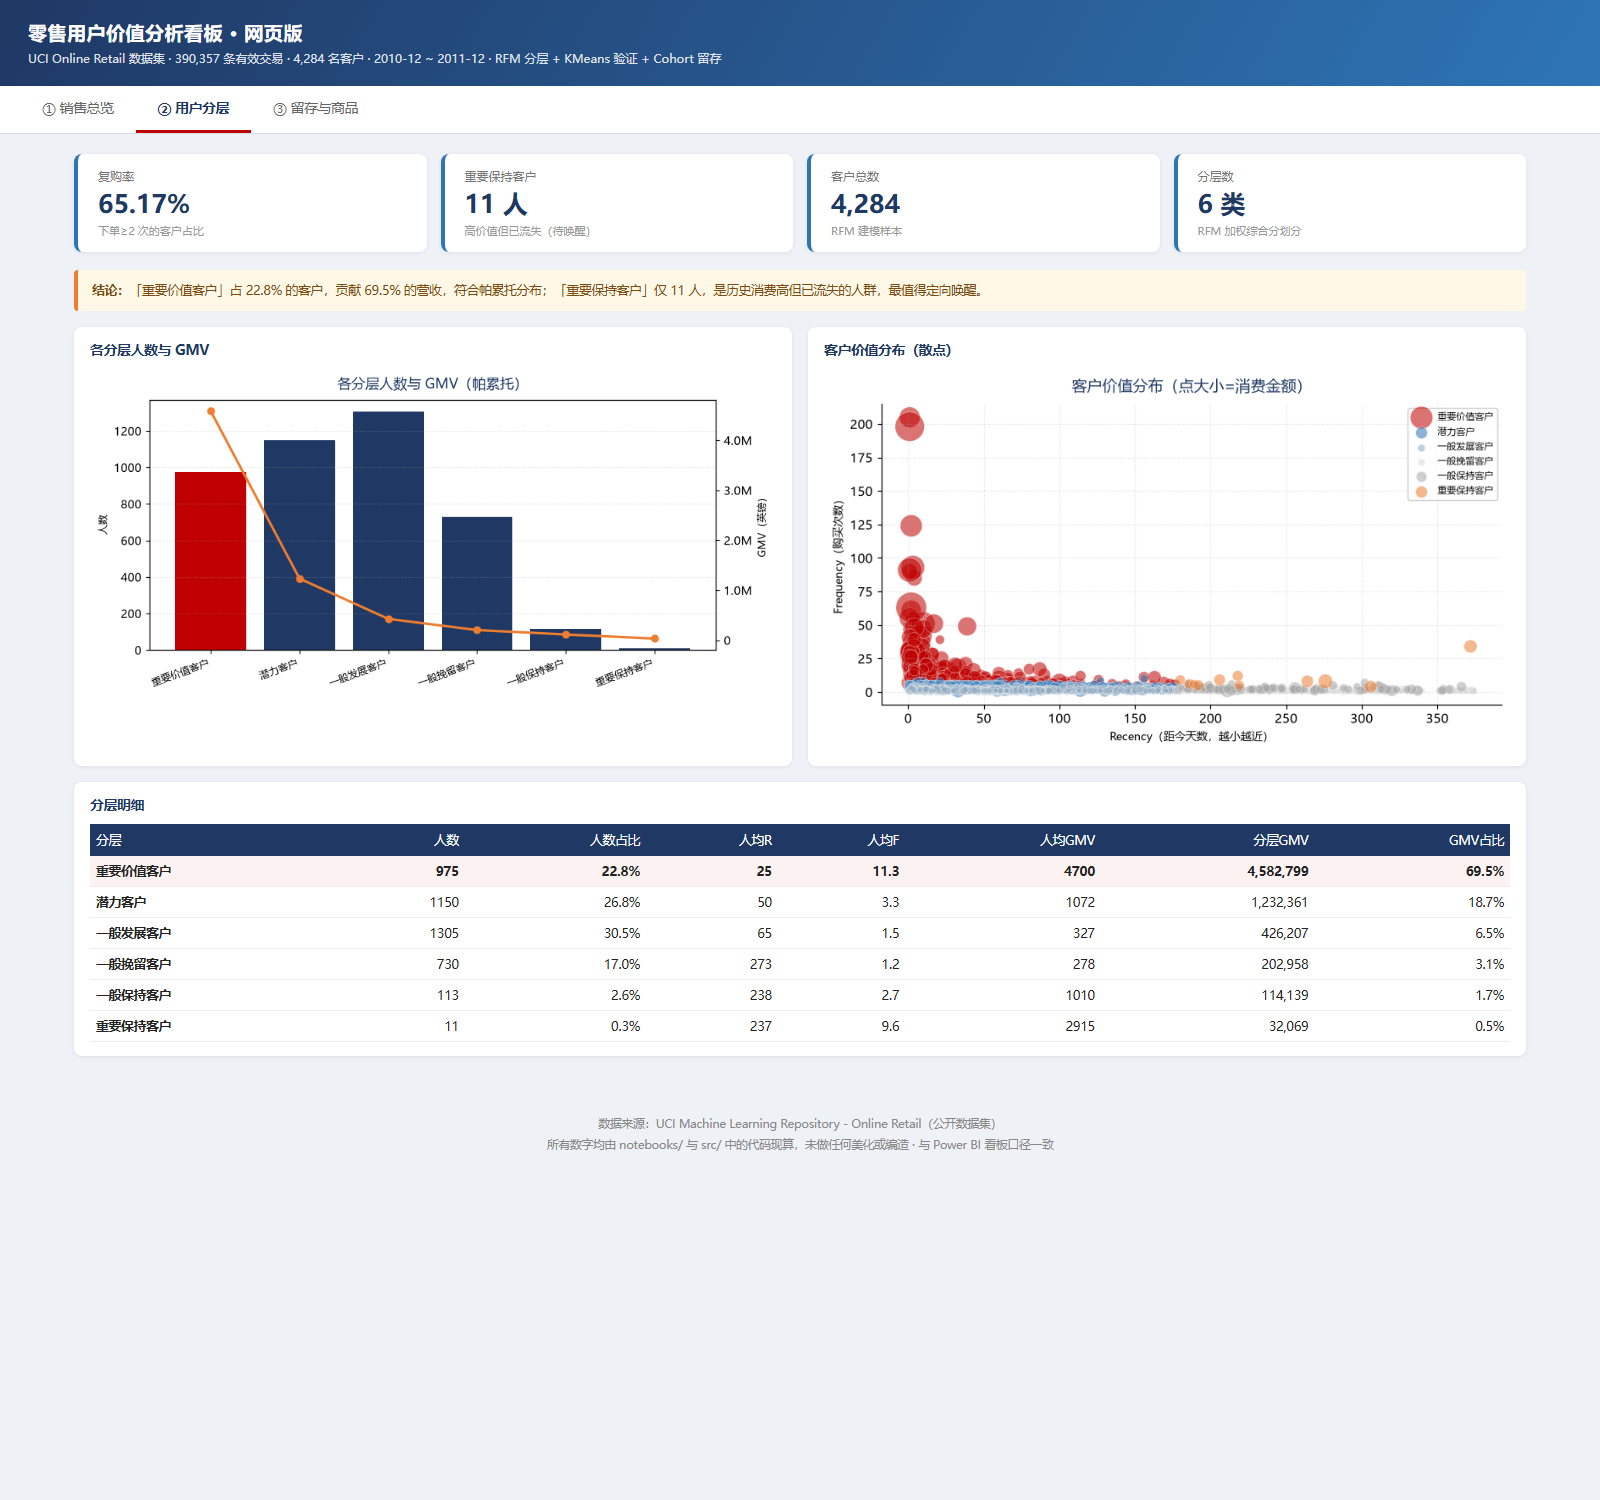

This screenshot's page, from the dashboard's own definition file:
{"tool":"powerbi","page":{"name":"用户分层","canvas":[1920,1080],"ordinal":1},"visuals":[{"type":"scatterChart","title":"客户价值分布","fields":{"Series":["rfm.Segment"],"Size":["Sum(rfm.Monetary)"],"X":["rfm.Recency"],"Y":["rfm.Frequency"]},"box":[933.9,30.2,967,494.8],"z":0},{"type":"lineClusteredColumnComboChart","title":"各分层人数与 GMV 贡献","fields":{"Category":["rfm.Segment"],"Y":["CountNonNull(rfm.CustomerID)"],"Y2":["日期表.分层GMV"]},"box":[933.9,555.2,967,484.3],"z":1000},{"type":"tableEx","fields":{"Values":["rfm.Segment","日期表.客户数","日期表.人均R","日期表.人均F","日期表.人均GMV","日期表.分层GMV"]},"box":[304.7,378.7,552.2,322.9],"z":2000},{"type":"slicer","fields":{"Values":["rfm.Segment"]},"box":[46.8,137.3,191.6,280.6],"z":4000},{"type":"cardVisual","fields":{"Data":["日期表.复购率","日期表.重要保持客户人数"]},"box":[304.7,76.9,552.2,137.3],"z":4002}]}

Visuals, with their boxes on the page's 1920x1080 design canvas (x1, y1, x2, y2). These are canvas units, not pixel positions in the 1600x1500 screenshot, which may show the page scaled, cropped or inside an application window:
"客户价值分布" scatterChart: 934, 30, 1901, 525
"各分层人数与 GMV 贡献" lineClusteredColumnComboChart: 934, 555, 1901, 1040
tableEx - rfm.Segment x 日期表.客户数: 305, 379, 857, 702
slicer - rfm.Segment: 47, 137, 238, 418
cardVisual - 日期表.复购率 x 日期表.重要保持客户人数: 305, 77, 857, 214
